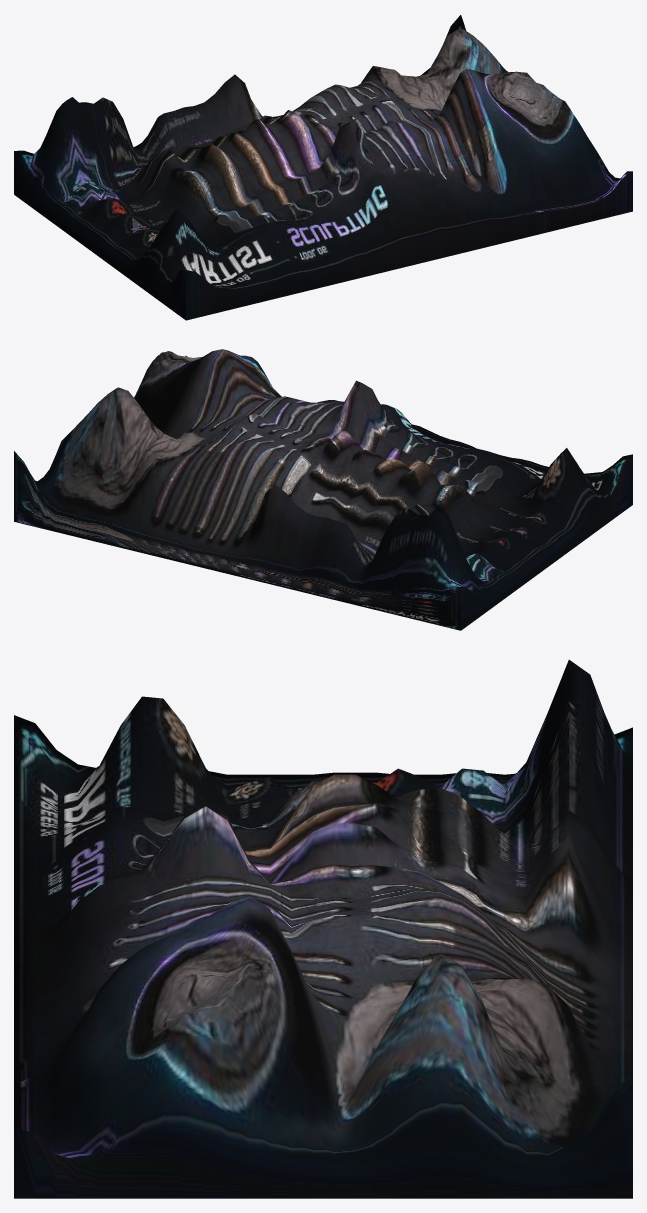
File: CAREER_09_Tool_06_Sculpt.glb
The picture shows the model from 3 angles, top to bottom: view 1: azimuth 30°, elevation 25°; view 2: azimuth 150°, elevation 25°; view 3: azimuth 270°, elevation 25°; orthographic projection. The views are drawn at different scales.
Parts seen in each view (by area): view 1: CAREER_09_Tool_06_Sculpt; view 2: CAREER_09_Tool_06_Sculpt; view 3: CAREER_09_Tool_06_Sculpt.
Part boxes in pixels (x1,y1,x2,y2): CAREER_09_Tool_06_Sculpt: [14, 15, 632, 320]; CAREER_09_Tool_06_Sculpt: [14, 349, 632, 630]; CAREER_09_Tool_06_Sculpt: [14, 660, 632, 1198].
Size of the model in its own units: 2 by 0.51 by 1.33.
1 material, 1 textured.
